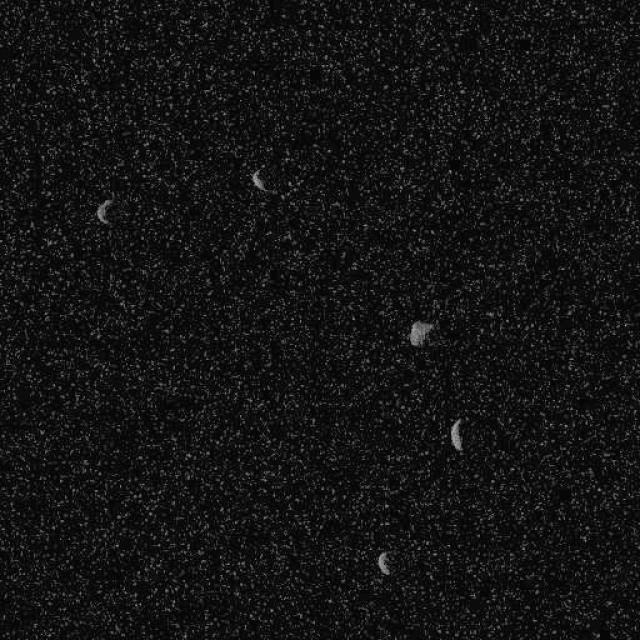D2: (407, 318, 435, 348), (248, 168, 272, 194), (448, 416, 464, 452), (95, 197, 114, 225), (376, 550, 392, 575)
